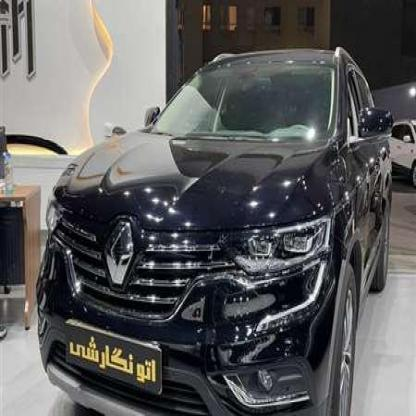Car: (38, 41, 384, 416), (382, 108, 416, 201)
